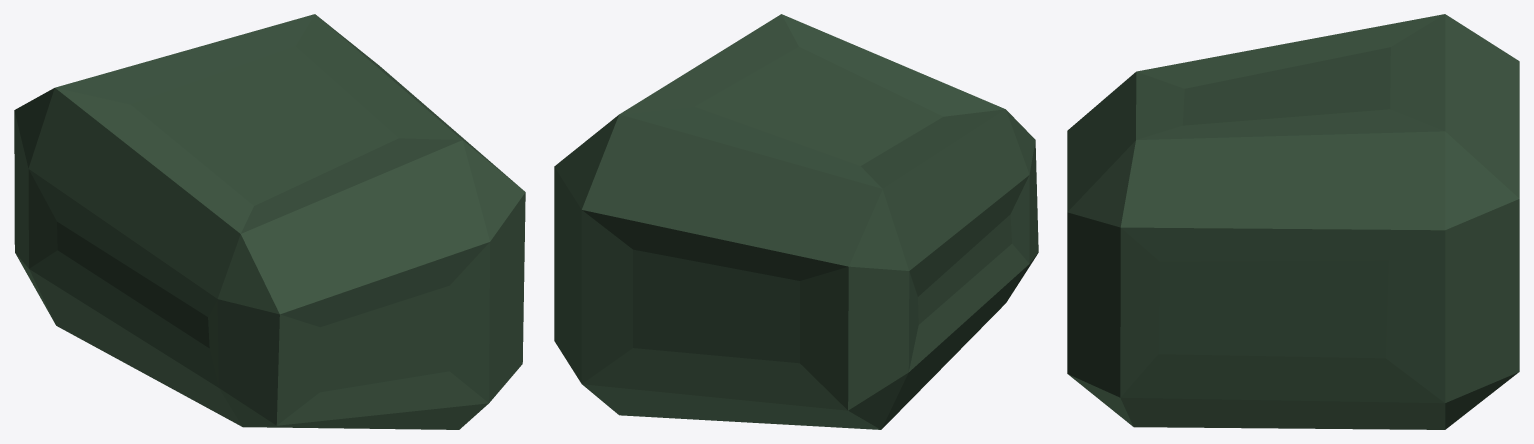
The model's file is seed.glb.
3 views of the same model, side by side, from view 1: azimuth 30°, elevation 25°; view 2: azimuth 150°, elevation 25°; view 3: azimuth 270°, elevation 25° (orthographic).
Parts seen in each view (by area): view 1: pea; view 2: pea; view 3: pea.
Boxes of the visible parts, x1=… form: pea: x1=14, y1=14, x2=525, y2=429; pea: x1=554, y1=14, x2=1038, y2=429; pea: x1=1067, y1=14, x2=1519, y2=429.
Bounding box in the file's own units: 0.1183 × 0.0966 × 0.1315.
